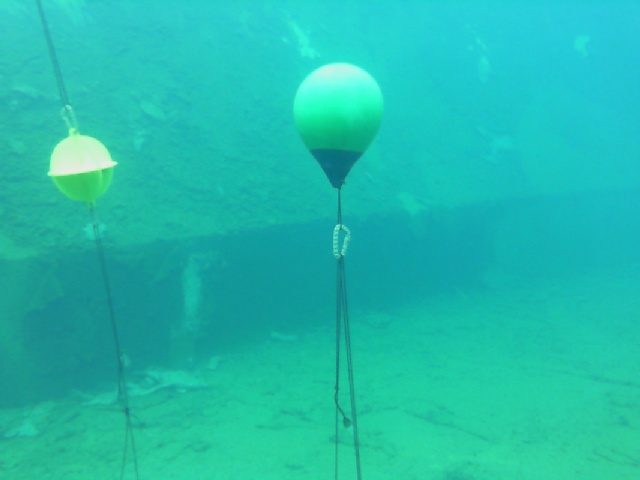buoy_green: (289, 59, 386, 189)
buoy_yellow: (46, 132, 119, 209)
